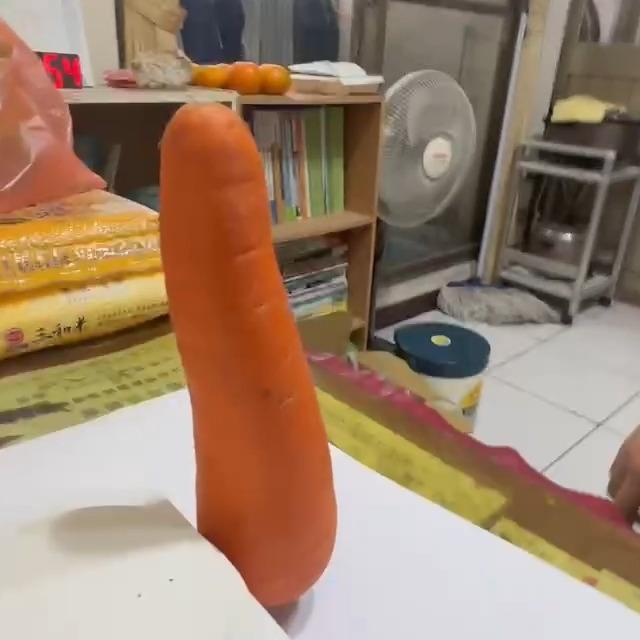carrot: (158, 100, 340, 616)
